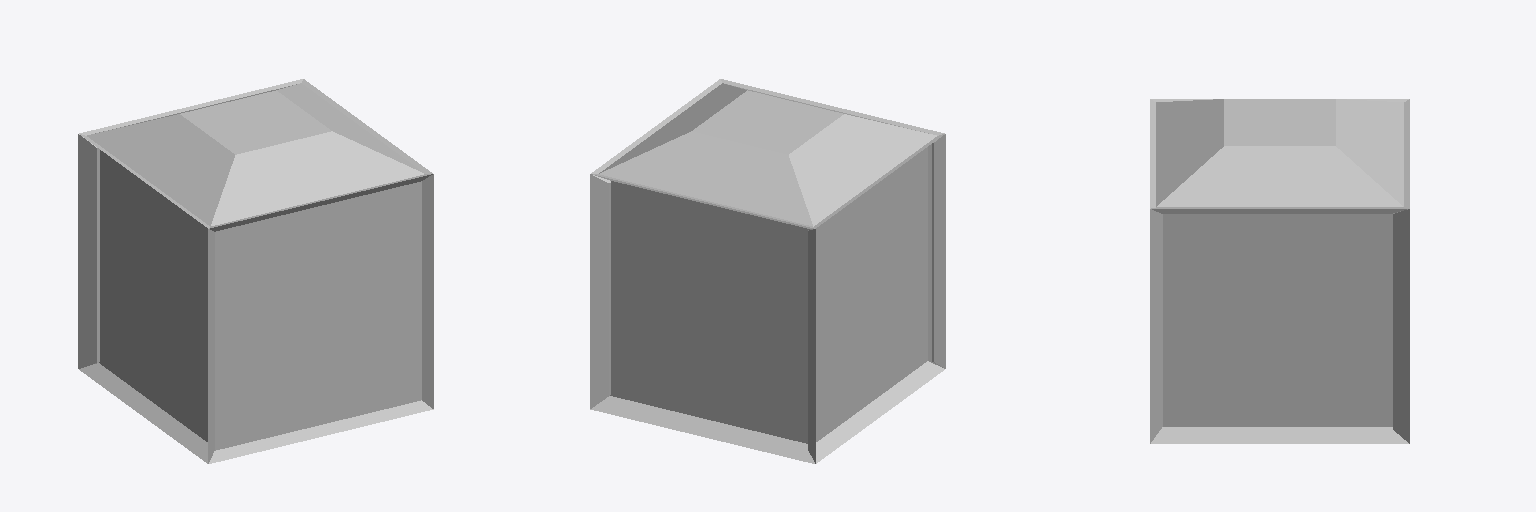
Rendered from cubo.obj.
3 views of the same model, side by side, from view 1: azimuth 30°, elevation 25°; view 2: azimuth 150°, elevation 25°; view 3: azimuth 270°, elevation 25° (orthographic).
Visible parts, largest first — view 1: Cube; view 2: Cube; view 3: Cube.
Boxes of the visible parts, box(x1,y1,x2,y2) form: Cube: box(78, 79, 433, 463); Cube: box(590, 79, 945, 463); Cube: box(1150, 99, 1409, 443).
Size of the model in its own units: 2 by 2.26 by 2.